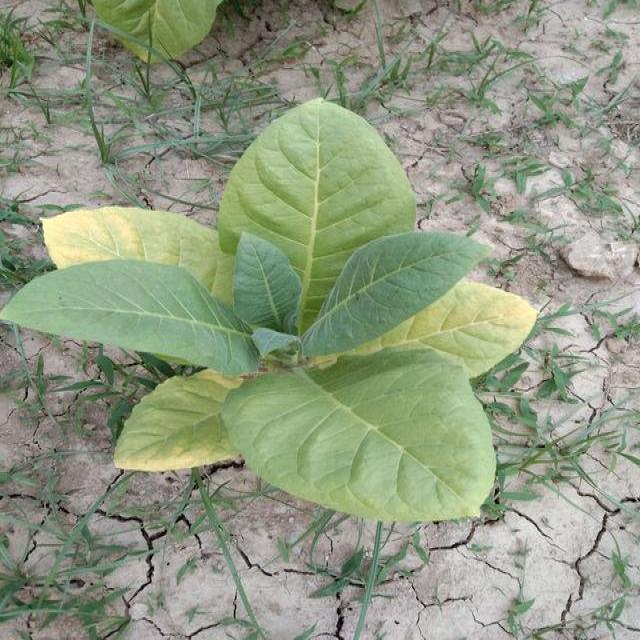crop: (32, 147, 530, 526)
